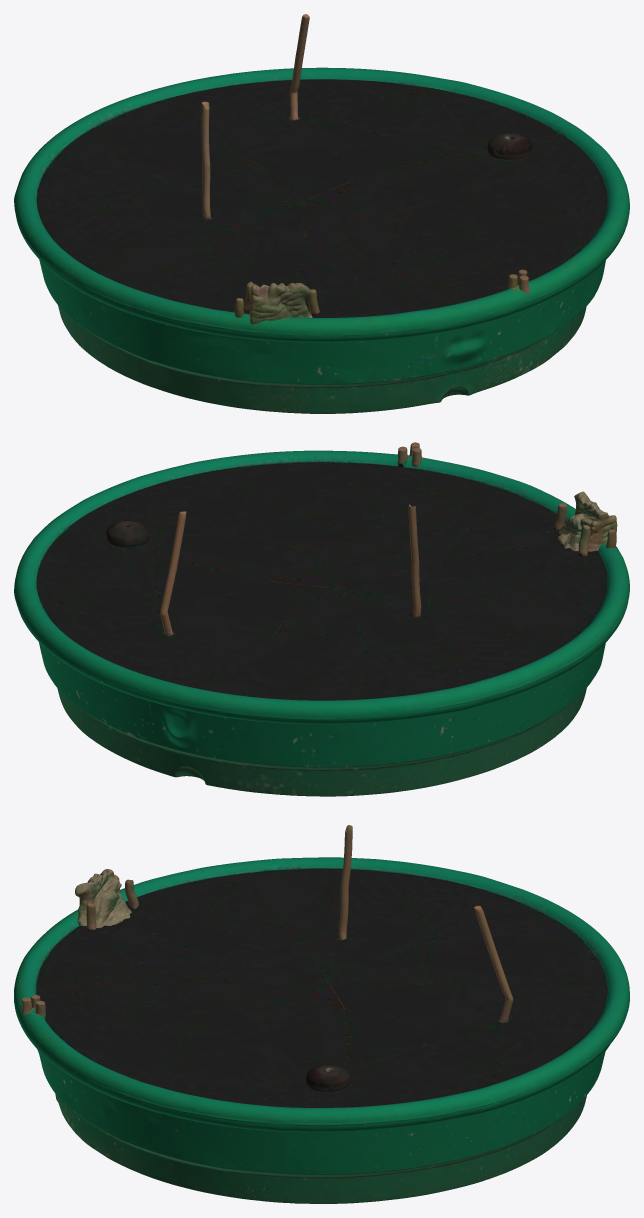
The model's file is trough.glb.
The picture shows the model from 3 angles, top to bottom: view 1: azimuth 30°, elevation 25°; view 2: azimuth 150°, elevation 25°; view 3: azimuth 270°, elevation 25°; orthographic projection.
Bounding box in the file's own units: 1.9 × 0.7357 × 1.9.
1 material, 1 textured.
